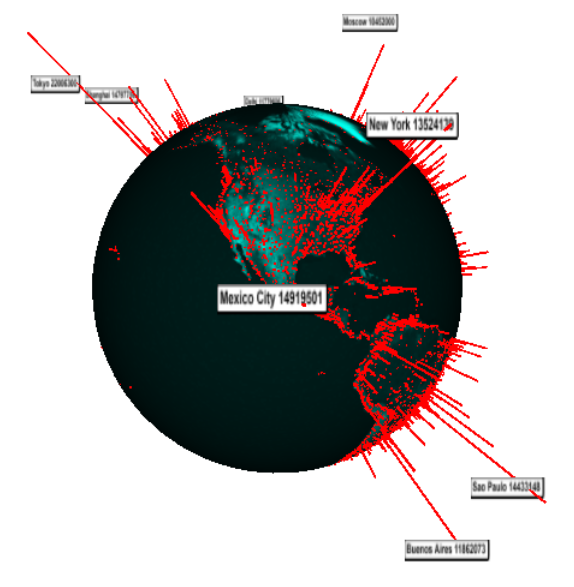

The dashboard page shown, as its layout file describes it:
{"tool":"powerbi","page":{"name":"Page 1","canvas":[960,720],"ordinal":0},"visuals":[{"type":"tableEx","fields":{"Values":["simplelatlong.city","simplelatlong.country","simplelatlong.lat","simplelatlong.lng","Sum(simplelatlong.pop)"]},"box":[472,0,488,720],"z":2},{"type":"threejsE0E480FFE18F46FE90AD2FA3A0D80C5F","fields":{"latitude":["simplelatlong.lat"],"longitude":["simplelatlong.lng"],"value":["simplelatlong.pop"],"name":["simplelatlong.city"]},"box":[16,144,448,448],"z":2}]}

Visuals, with their boxes on the page's 960x720 design canvas (x1, y1, x2, y2). These are canvas units, not pixel positions in the 574x587 screenshot, which may show the page scaled, cropped or inside an application window:
tableEx - simplelatlong.city x simplelatlong.country: <box>472,0,960,720</box>
threejsE0E480FFE18F46FE90AD2FA3A0D80C5F - simplelatlong.lat x simplelatlong.lng: <box>16,144,464,592</box>
